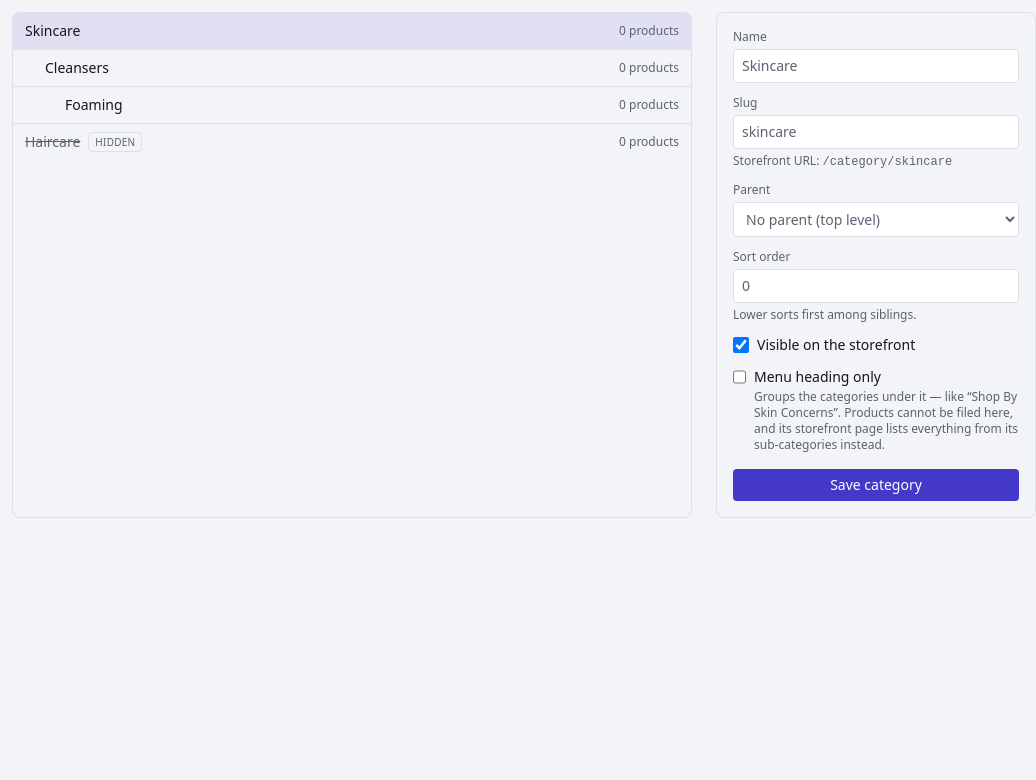
Scenario: CategoryManager › KEEPS THE CHOSEN PARENT ON SCREEN AFTER A SAVE
The image size is (1036, 780).
Click the button "Haircare Hidden 0 products".
click(53, 142)  # box [13,124,691,160]
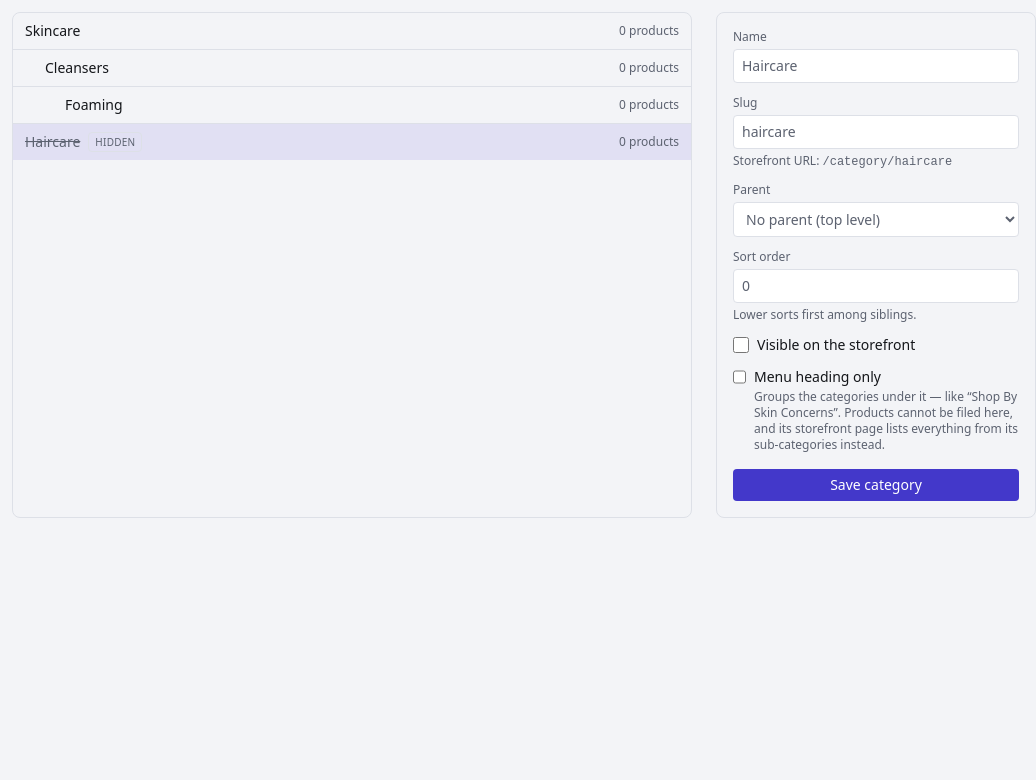
Select "Skincare" in the dropdown labelled "Parent" at [876, 220], box [733,202,1019,237]
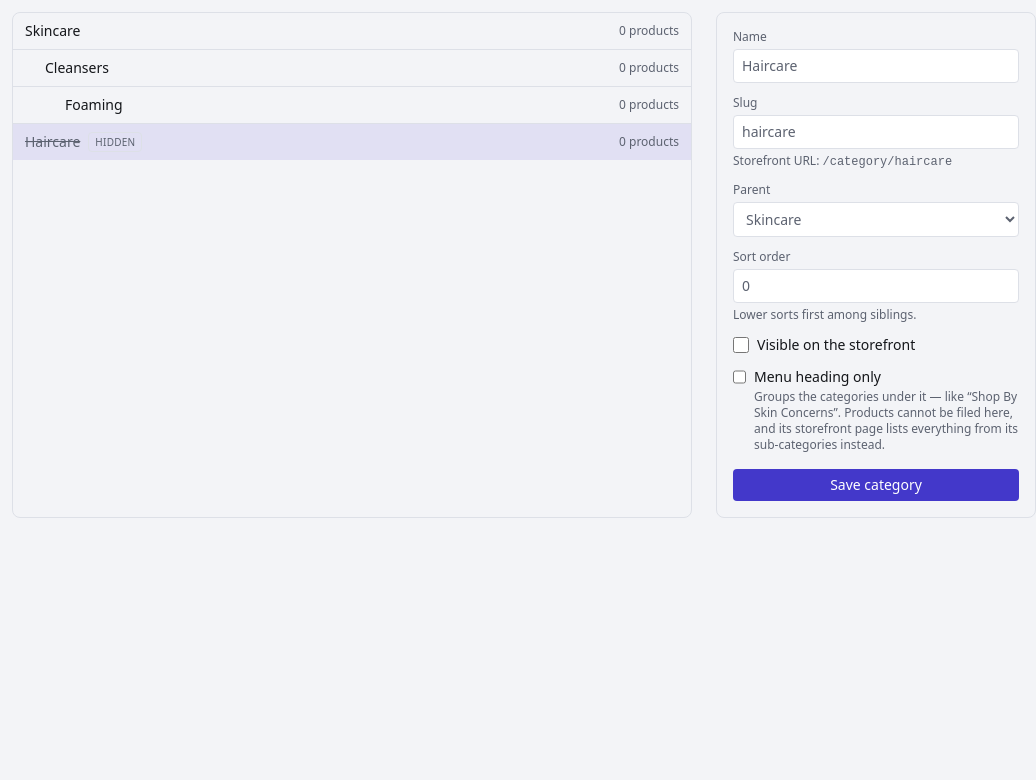
Submit the form, box [716,12,1035,518]
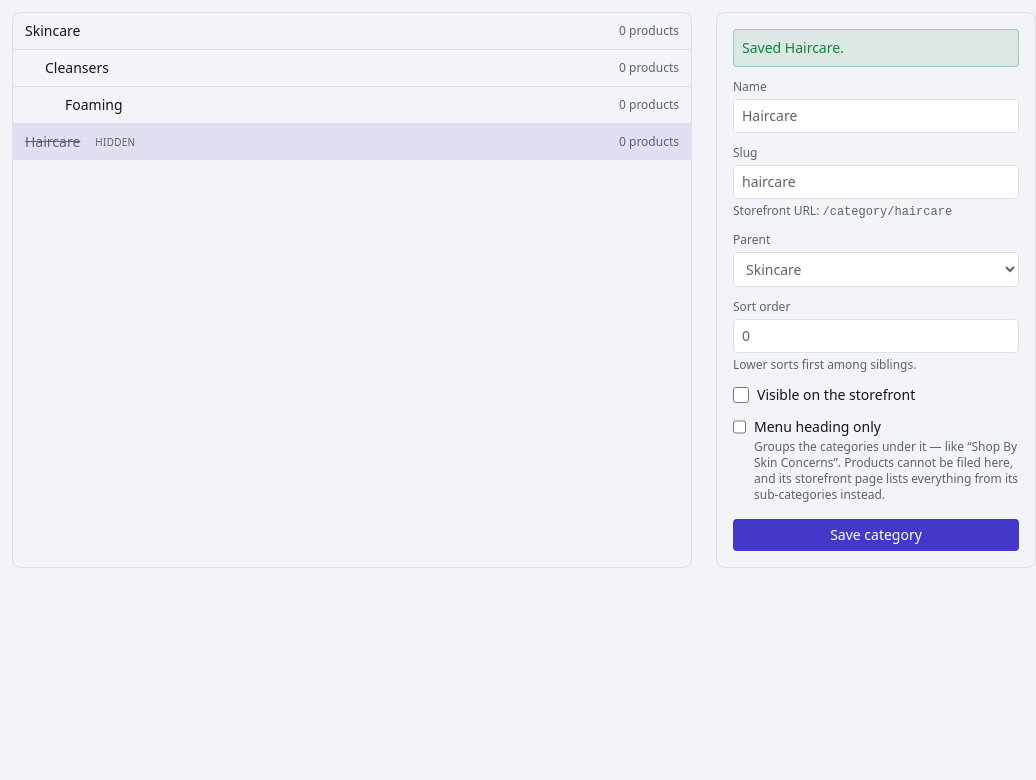
Now the message reads "Saved Haircare.", box [733,29,1019,67]
